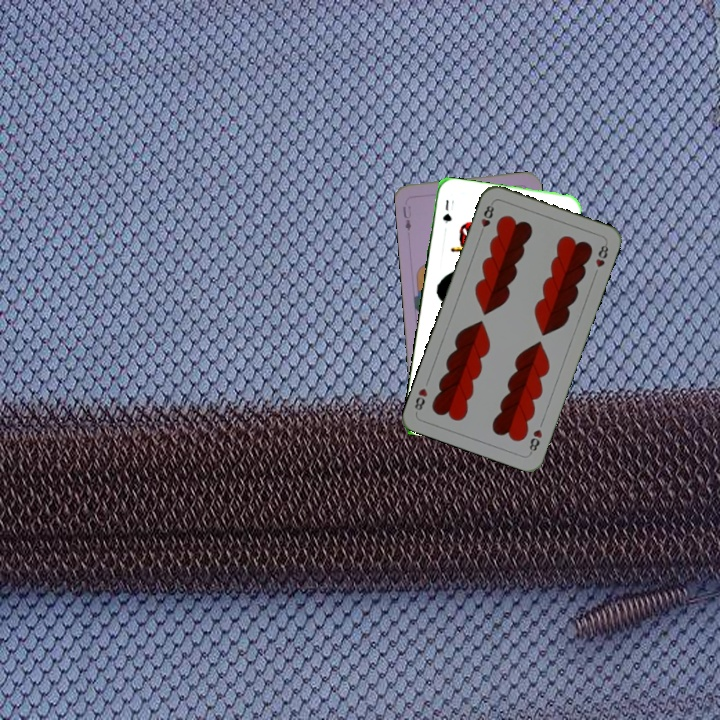EU: (399, 202, 414, 233)
GU: (439, 196, 454, 226)
H8: (476, 199, 497, 238), (525, 425, 545, 456)
